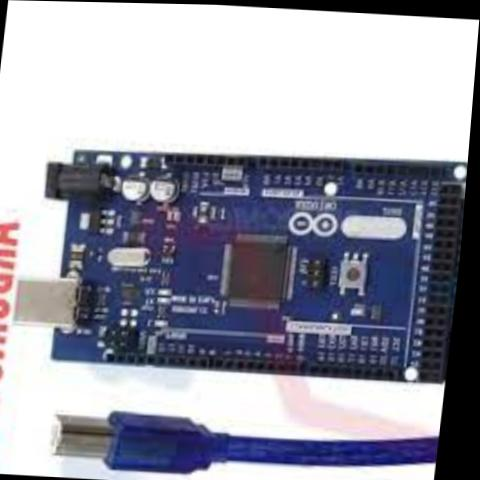Arduino-Mega: (6, 121, 472, 396)
